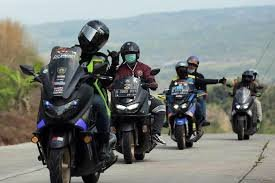motor: (37, 63, 115, 183), (107, 78, 161, 162), (162, 78, 204, 148), (228, 87, 263, 143)
